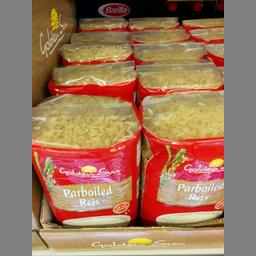rice: (32, 95, 141, 224), (138, 90, 224, 224)
